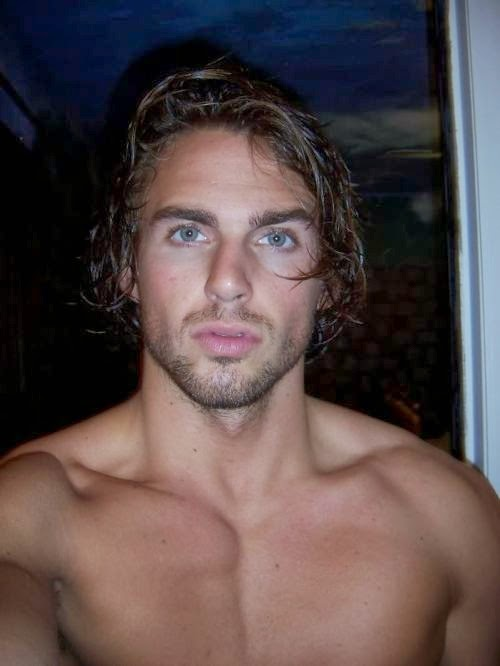bare: (137, 265, 329, 409)
